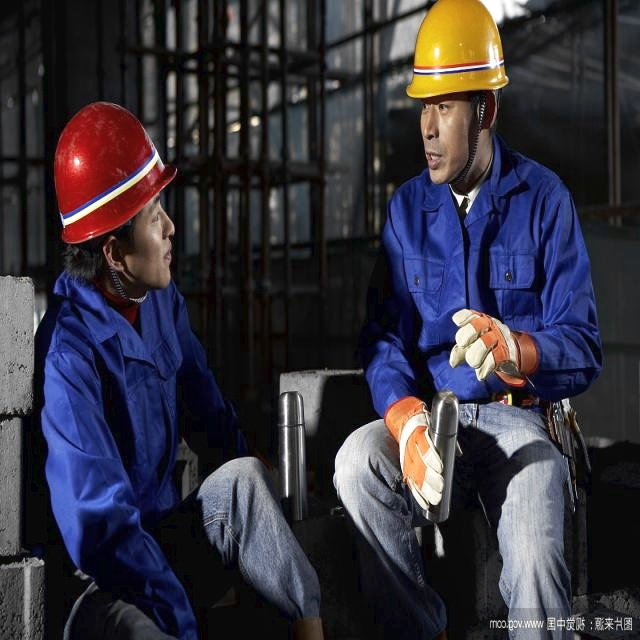Con_Casco: (53, 101, 172, 290), (406, 0, 504, 171)
